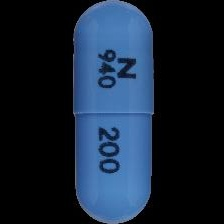55154-8294: (0, 0, 224, 224)
